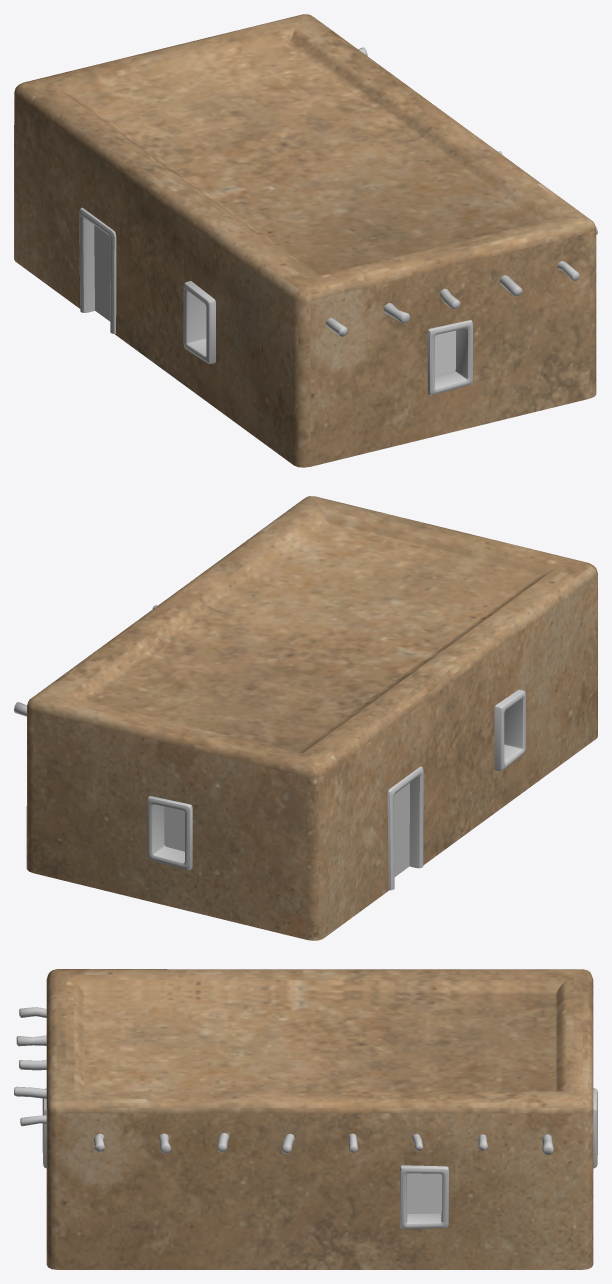
Rendered from Type1_1.fbx.
The picture shows the model from 3 angles, top to bottom: view 1: azimuth 30°, elevation 25°; view 2: azimuth 150°, elevation 25°; view 3: azimuth 270°, elevation 25°; orthographic projection. The views are drawn at different scales.
Parts seen in each view (by area): view 1: Body, WOODENPARTS.017, DOOR, parallaxwindow.014; view 2: Body, WOODENPARTS.017, DOOR, parallaxwindow.005; view 3: Body, WOODENPARTS.017, parallaxwindow.015.
Boxes of the visible parts, x1,y1,x2,y2 form: Body: (14, 14, 596, 467); WOODENPARTS.017: (79, 47, 597, 395); DOOR: (94, 225, 110, 321); parallaxwindow.014: (435, 330, 455, 376); Body: (26, 496, 597, 940); WOODENPARTS.017: (14, 605, 525, 890); DOOR: (393, 783, 409, 876); parallaxwindow.005: (164, 806, 184, 851); Body: (46, 969, 593, 1269); WOODENPARTS.017: (14, 1007, 597, 1229); parallaxwindow.015: (407, 1173, 441, 1213).
Size of the model in its own units: 765 by 379 by 1208.
